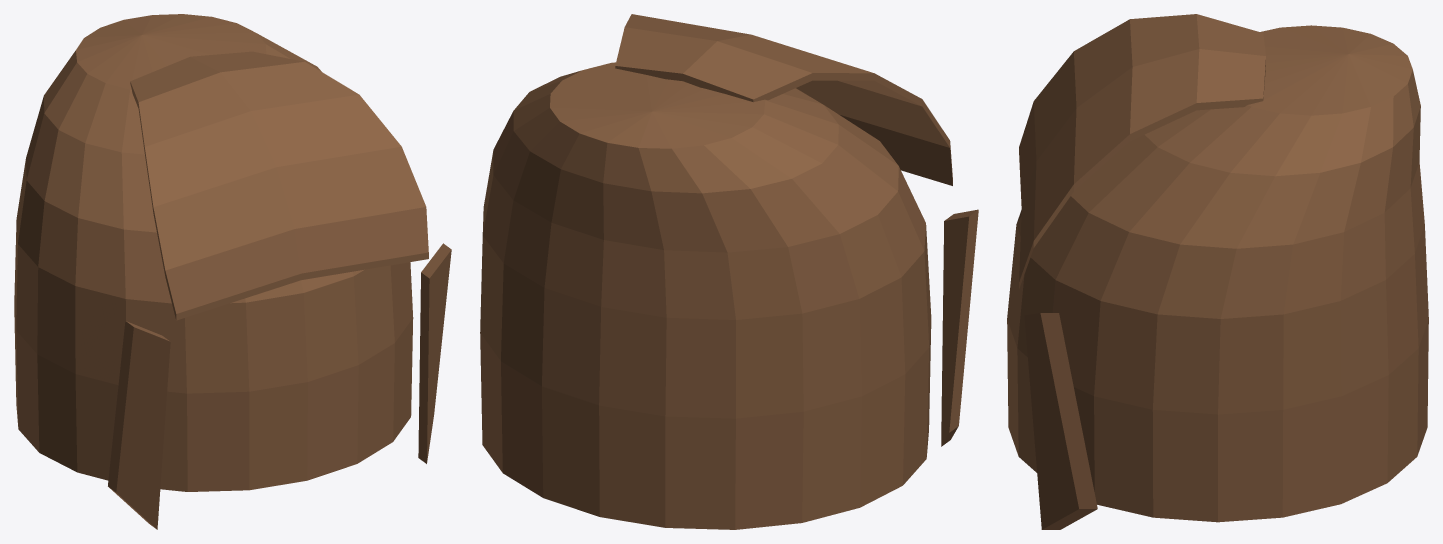
The model's file is hair_boy_pompadour_01.glb.
The picture shows the model from 3 angles, left to right: view 1: azimuth 30°, elevation 25°; view 2: azimuth 150°, elevation 25°; view 3: azimuth 270°, elevation 25°; orthographic projection. The views are drawn at different scales.
Parts seen in each view (by area): view 1: Pompadour_Cap, Pompadour_Front_Sweep, Pompadour_Side_Lock_L, Pompadour_Side_Lock_R; view 2: Pompadour_Cap, Pompadour_Front_Sweep, Pompadour_Side_Lock_L; view 3: Pompadour_Cap, Pompadour_Front_Sweep, Pompadour_Side_Lock_R.
Part boxes in pixels (box(x1,y1,x2,y2)): Pompadour_Cap: box(14, 14, 413, 491); Pompadour_Front_Sweep: box(130, 51, 428, 320); Pompadour_Side_Lock_L: box(108, 321, 170, 529); Pompadour_Side_Lock_R: box(418, 243, 451, 463); Pompadour_Cap: box(480, 62, 931, 529); Pompadour_Front_Sweep: box(615, 14, 952, 185); Pompadour_Side_Lock_L: box(941, 209, 978, 446); Pompadour_Cap: box(1007, 25, 1428, 522); Pompadour_Front_Sweep: box(1019, 14, 1265, 288); Pompadour_Side_Lock_R: box(1024, 313, 1097, 529).
Bounding box in the file's own units: 0.336 × 0.338 × 0.316.
